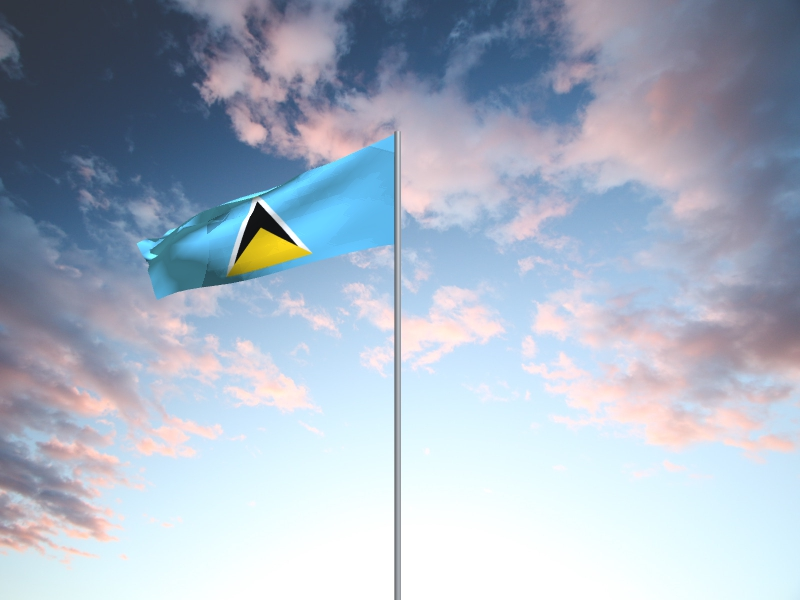lc: (136, 136, 394, 302)
